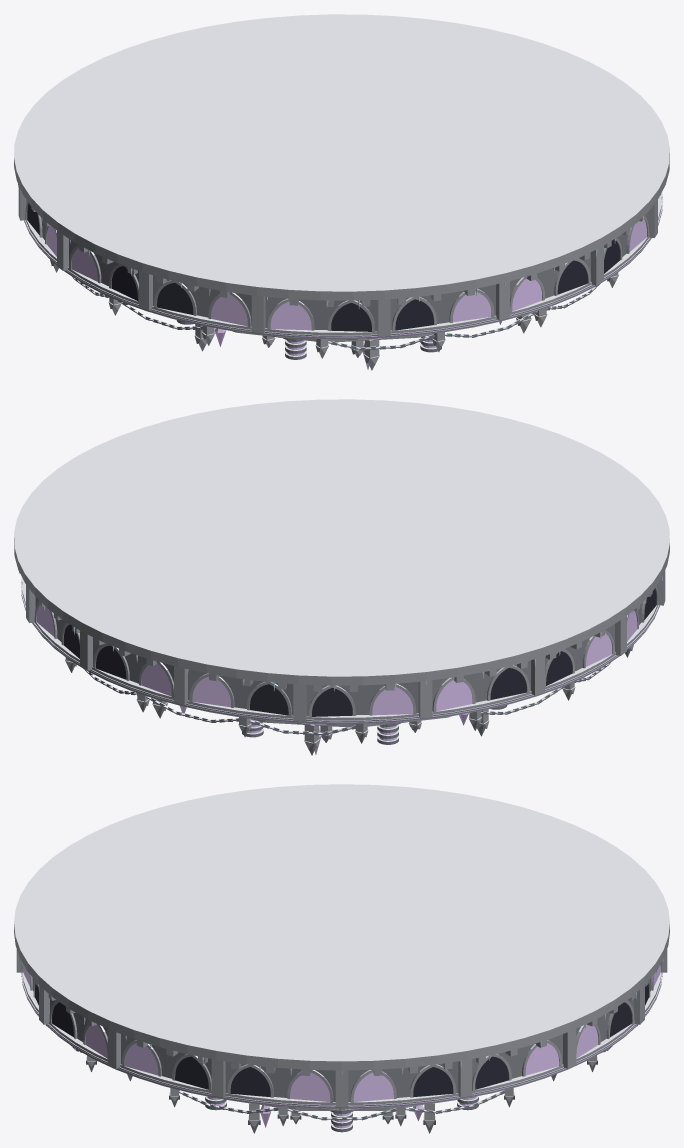
The model's file is AR_Ilha_Suspensa.fbx.
3 renders of one model, top to bottom at view 1: azimuth 30°, elevation 25°; view 2: azimuth 150°, elevation 25°; view 3: azimuth 270°, elevation 25°, orthographic.
Parts seen in each view (by area): view 1: AR_Ilha_Suspensa; view 2: AR_Ilha_Suspensa; view 3: AR_Ilha_Suspensa.
Part boxes in pixels (x1,y1,x2,y2): AR_Ilha_Suspensa: (14, 14, 669, 370); AR_Ilha_Suspensa: (14, 399, 669, 755); AR_Ilha_Suspensa: (14, 784, 669, 1133).
Bounding box in the file's own units: 36.8 × 10.81 × 36.8.
